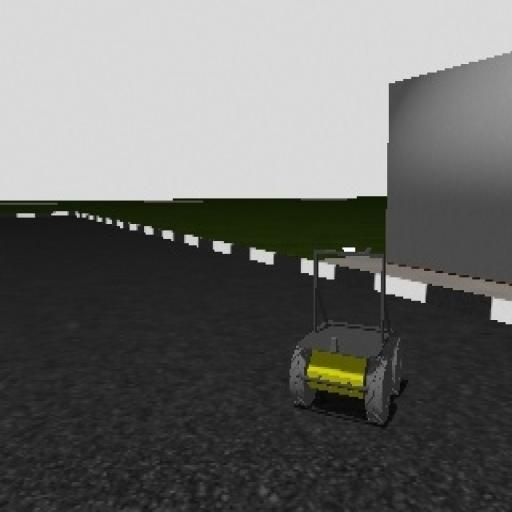huskya200: (290, 230, 404, 450)
